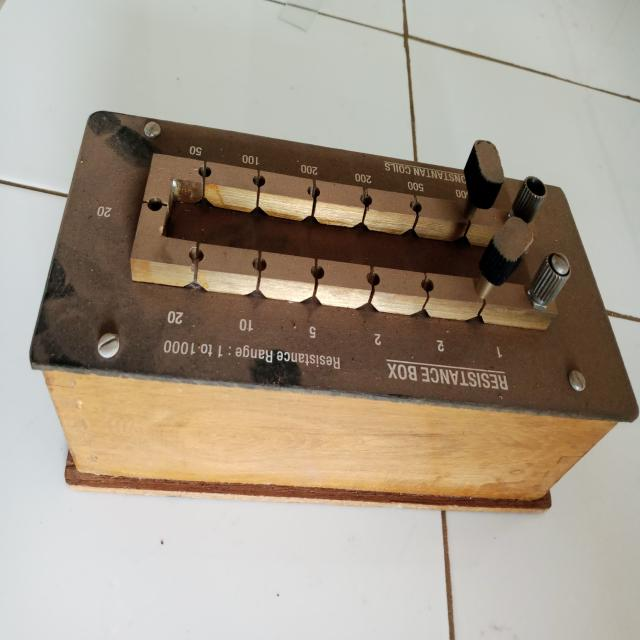Pinned Resistance Box: (18, 73, 634, 546)
